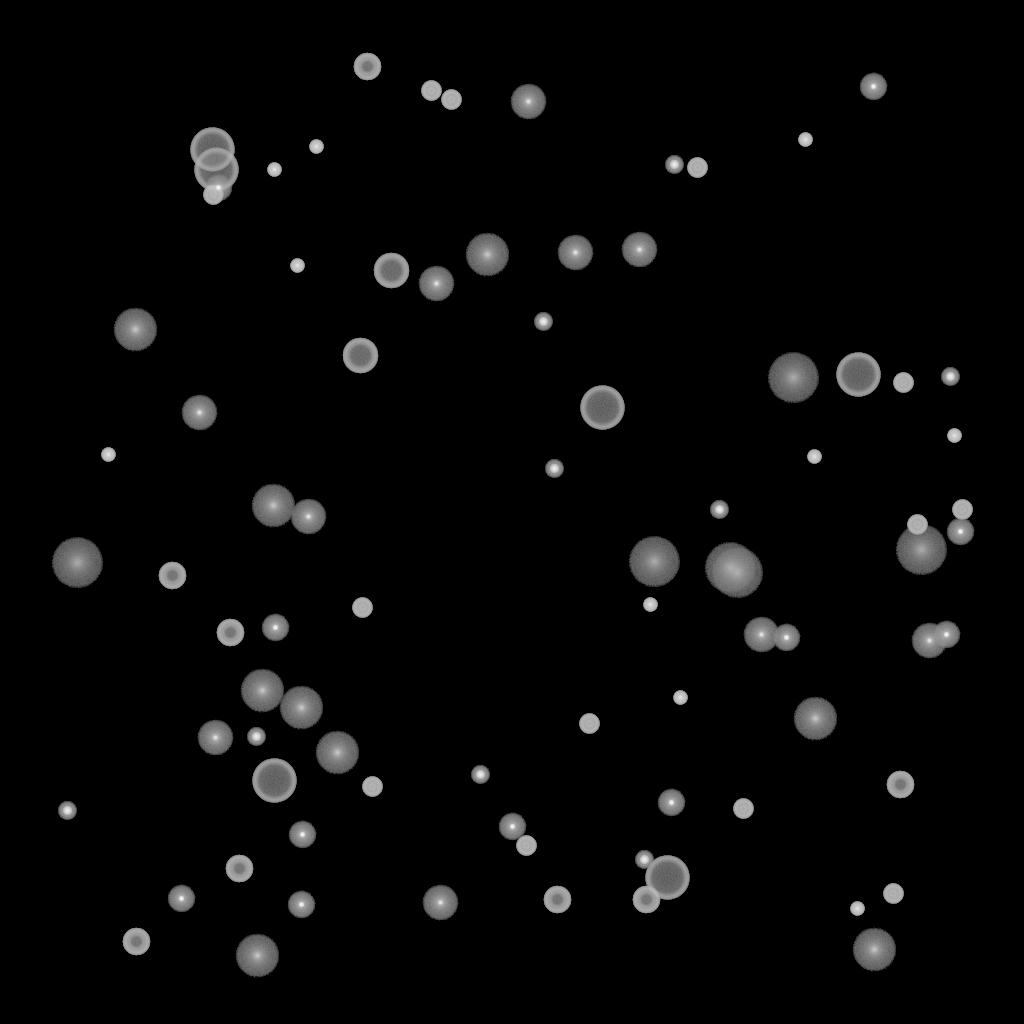depth:-10: (859, 73, 887, 101), (204, 174, 232, 202), (657, 789, 685, 817), (932, 621, 960, 649), (772, 624, 800, 652), (261, 614, 289, 642), (946, 518, 974, 546), (287, 891, 315, 919), (167, 885, 195, 913), (498, 813, 526, 841), (288, 821, 316, 849)
depth:-20: (665, 156, 683, 174), (635, 851, 653, 869), (471, 766, 489, 784), (710, 501, 728, 519), (247, 728, 265, 746), (545, 460, 563, 478), (534, 313, 552, 331), (58, 802, 76, 820), (941, 368, 959, 386)
depth:-30: (673, 691, 687, 705), (643, 598, 657, 612), (798, 133, 812, 147), (309, 140, 323, 154), (290, 259, 304, 273), (267, 163, 281, 177), (101, 448, 115, 462), (947, 429, 961, 443), (807, 450, 821, 464), (850, 902, 864, 916)
depth:-40: (516, 836, 536, 856), (733, 799, 753, 819), (203, 185, 223, 205), (907, 515, 927, 535), (352, 598, 372, 618), (687, 158, 707, 178), (441, 90, 461, 110), (421, 81, 441, 101), (952, 500, 972, 520), (362, 777, 382, 797), (579, 714, 599, 734), (893, 373, 913, 393), (883, 884, 903, 904)
depth:-50: (225, 855, 253, 883), (353, 53, 381, 81), (632, 886, 660, 914), (543, 886, 571, 914), (216, 619, 244, 647), (158, 562, 186, 590), (122, 928, 150, 956), (886, 771, 914, 799)
depth:-60: (342, 338, 378, 374), (373, 253, 409, 289)
depth:-70: (645, 856, 689, 900), (836, 353, 880, 397), (194, 148, 238, 192), (252, 759, 296, 803), (190, 128, 234, 172), (580, 386, 624, 430)
depth:0: (290, 499, 326, 535), (422, 885, 458, 921), (181, 395, 217, 431), (743, 617, 779, 653), (621, 232, 657, 268), (911, 623, 947, 659), (557, 235, 593, 271), (197, 720, 233, 756), (418, 266, 454, 302), (510, 84, 546, 120)
depth:10: (315, 731, 359, 775), (235, 934, 279, 978), (240, 669, 284, 713), (852, 928, 896, 972), (793, 697, 837, 741), (279, 686, 323, 730), (251, 484, 295, 528), (465, 233, 509, 277), (113, 308, 157, 352)
depth:20: (704, 543, 756, 593), (628, 537, 680, 587), (711, 548, 763, 598), (895, 525, 947, 575), (51, 538, 103, 588), (767, 353, 819, 403)
